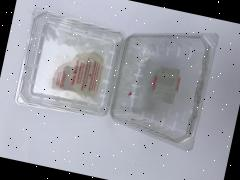plastic: (0, 0, 229, 174)
